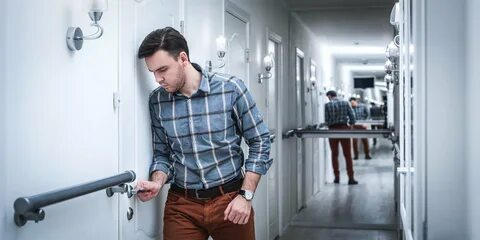awake: (134, 26, 271, 240)
